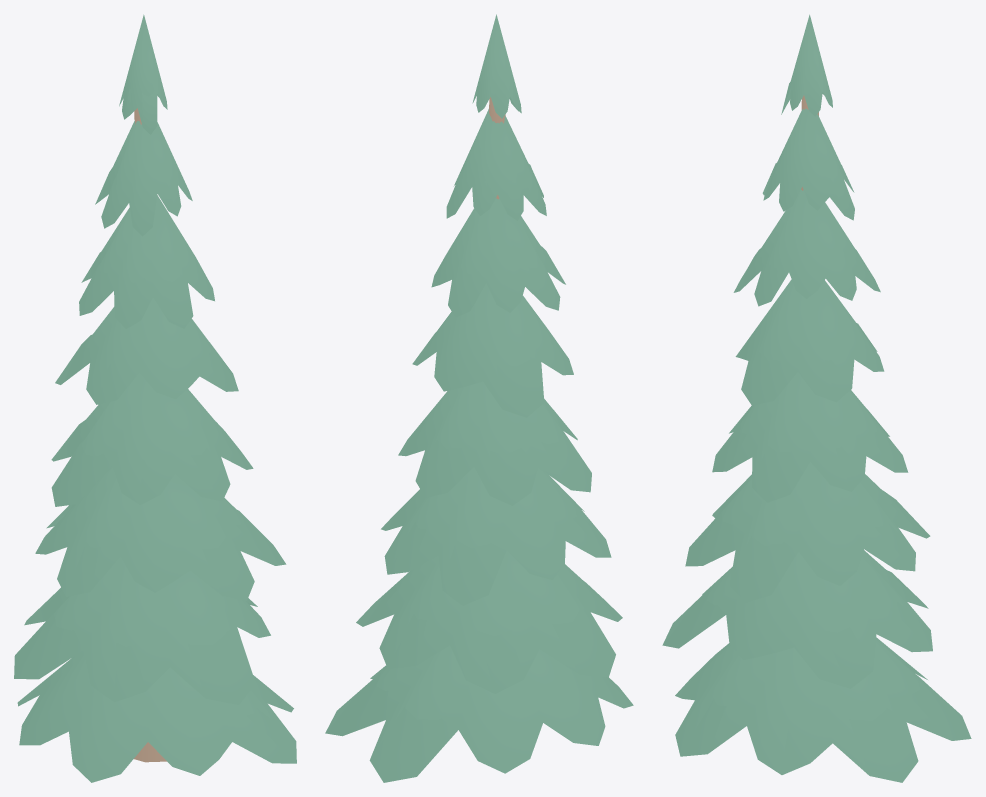
Rendered from Blender_Spruce_2.glb.
The picture shows the model from 3 angles, left to right: view 1: azimuth 30°, elevation 25°; view 2: azimuth 150°, elevation 25°; view 3: azimuth 270°, elevation 25°; orthographic projection. The views are drawn at different scales.
Visible parts, largest first — view 1: Blender_Spruce_2; view 2: Blender_Spruce_2; view 3: Blender_Spruce_2.
Part boxes in pixels (x1,y1,x2,y2): Blender_Spruce_2: (14,14,296,782); Blender_Spruce_2: (325,14,633,782); Blender_Spruce_2: (662,14,971,782).
Size of the model in its own units: 7.16 by 19.54 by 7.64.
